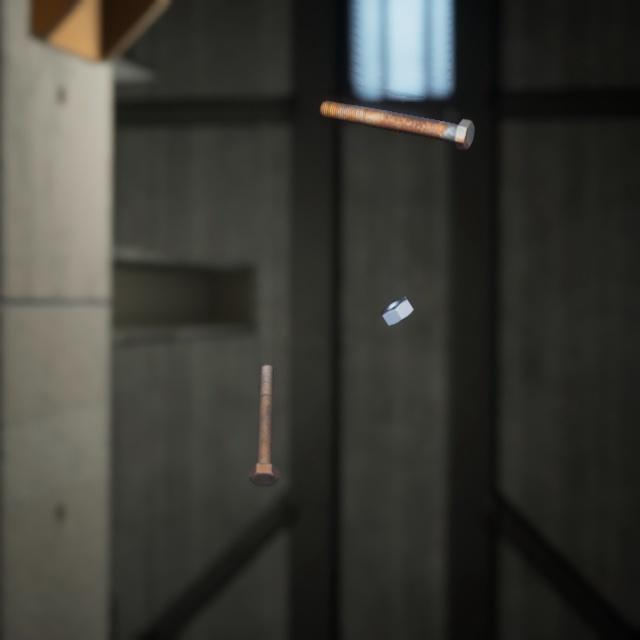bolt: (315, 85, 478, 143), (243, 340, 283, 469)
nut: (376, 275, 418, 313)
